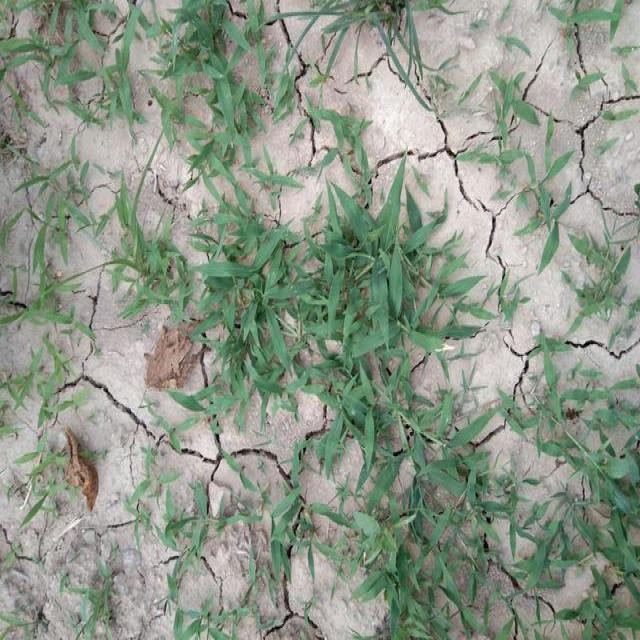weed: (358, 405, 504, 640), (530, 359, 640, 640), (322, 195, 452, 424), (190, 208, 311, 412), (165, 5, 275, 191), (300, 0, 433, 114)
